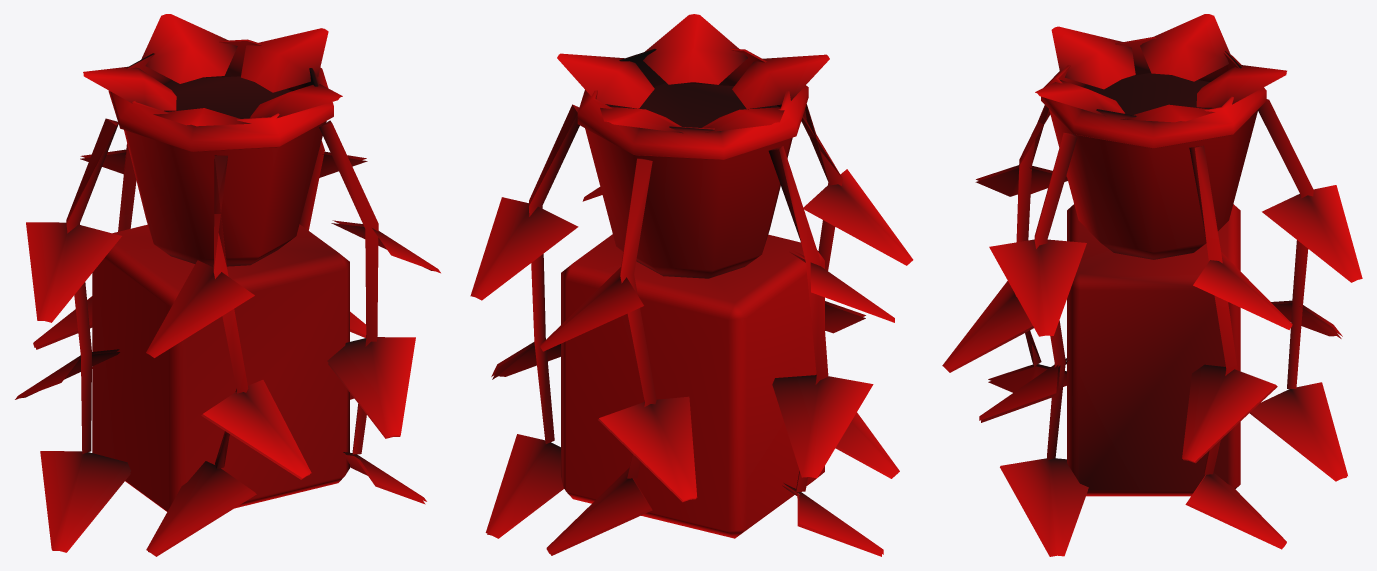
Rendered from CI_Decor_Plant_IvyShelf.glb.
3 renders of one model, left to right at view 1: azimuth 30°, elevation 25°; view 2: azimuth 150°, elevation 25°; view 3: azimuth 270°, elevation 25°, orthographic. The views are drawn at different scales.
Visible parts, largest first — view 1: CI_Decor_Plant_IvyShelf; view 2: CI_Decor_Plant_IvyShelf; view 3: CI_Decor_Plant_IvyShelf.
Boxes of the visible parts, <box> form: CI_Decor_Plant_IvyShelf: <box>15,14,440,556</box>; CI_Decor_Plant_IvyShelf: <box>470,14,913,556</box>; CI_Decor_Plant_IvyShelf: <box>942,14,1362,556</box>.
Bounding box in the file's own units: 0.2831 × 0.3203 × 0.2904.
